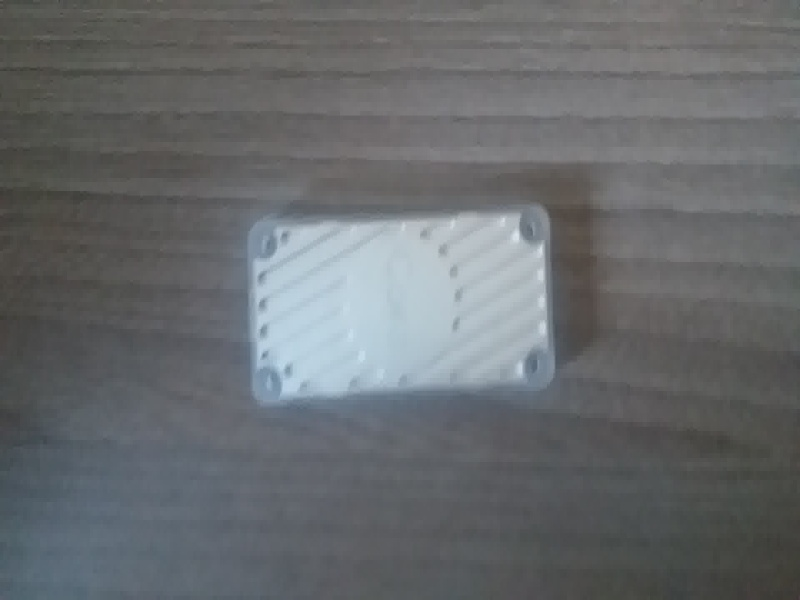coral: (238, 205, 564, 423)
